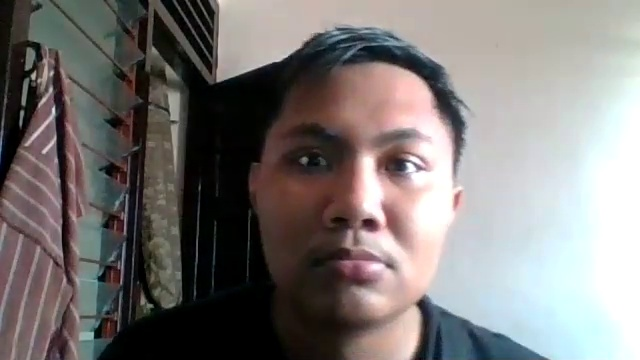Not Distracted: (243, 79, 464, 327)
